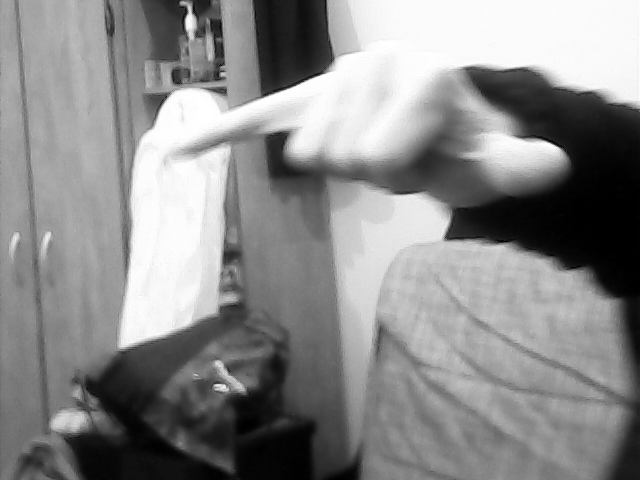aloha: (156, 34, 578, 215)
